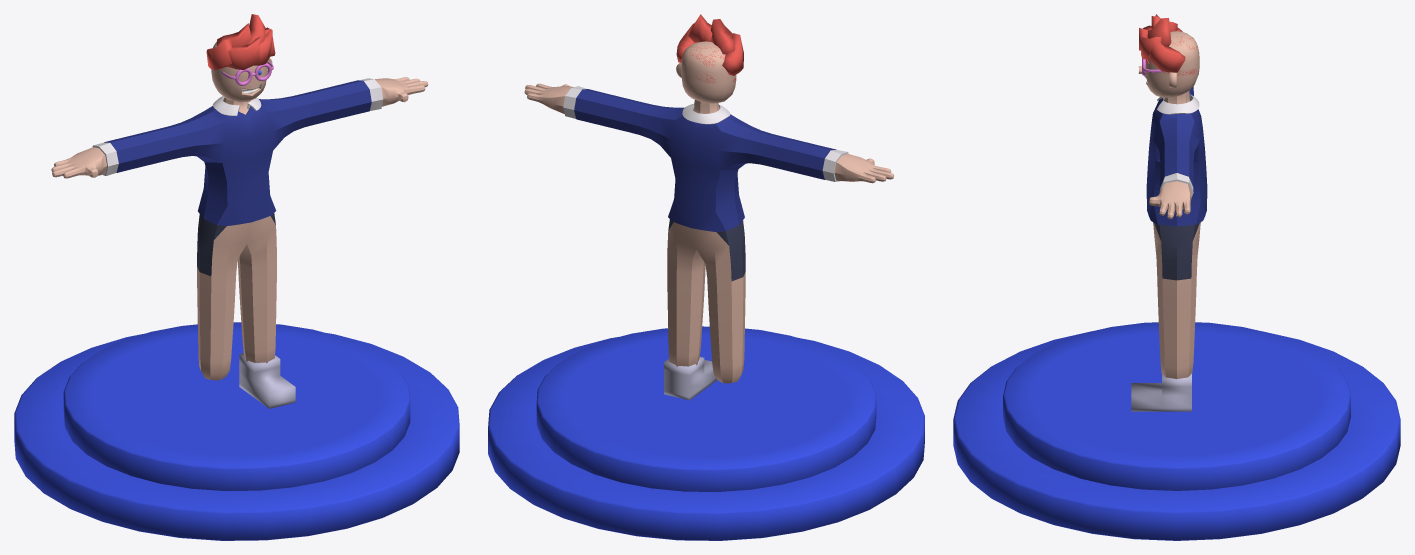
The model's file is model_human.glb.
The picture shows the model from 3 angles, left to right: view 1: azimuth 30°, elevation 25°; view 2: azimuth 150°, elevation 25°; view 3: azimuth 270°, elevation 25°; orthographic projection. The views are drawn at different scales.
Visible parts, largest first — view 1: Platform, Jumper, Body, Hair spikes, shoes, Trousers; view 2: Platform, Jumper, Body, Hair spikes, shoes, Trousers; view 3: Platform, Body, Jumper, shoes, Trousers, Hair spikes.
Part boxes in pixels (x1,y1,x2,y2): Platform: (14,322,459,540); Jumper: (92,78,383,225); Body: (51,42,428,380); Hair spikes: (206,14,275,70); shoes: (239,353,295,408); Trousers: (197,213,275,276); Platform: (488,326,924,540); Jumper: (563,86,848,231); Body: (524,41,893,383); Hair spikes: (676,14,743,75); shoes: (664,357,716,400); Trousers: (667,219,745,281); Platform: (953,322,1400,540); Body: (1138,31,1200,378); Jumper: (1146,86,1207,226); shoes: (1131,373,1191,411); Trousers: (1154,223,1199,280); Hair spikes: (1139,14,1185,72).
Size of the model in its own units: 1.98 by 2.13 by 1.98.
